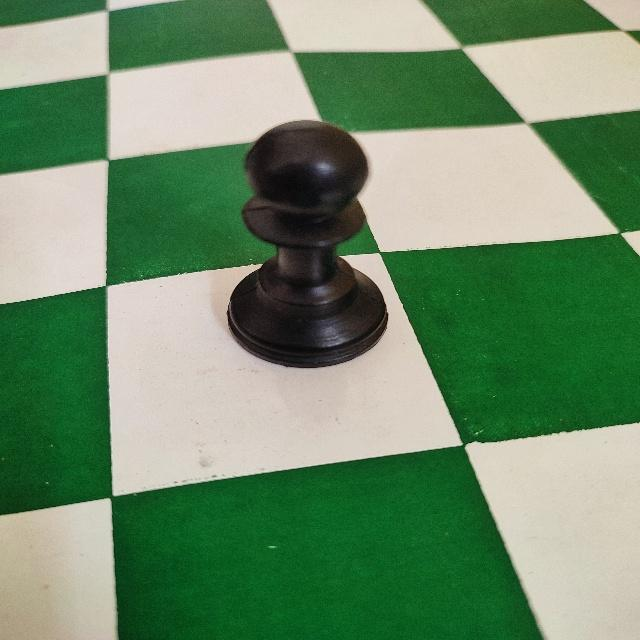Pawn: (224, 117, 390, 371)
